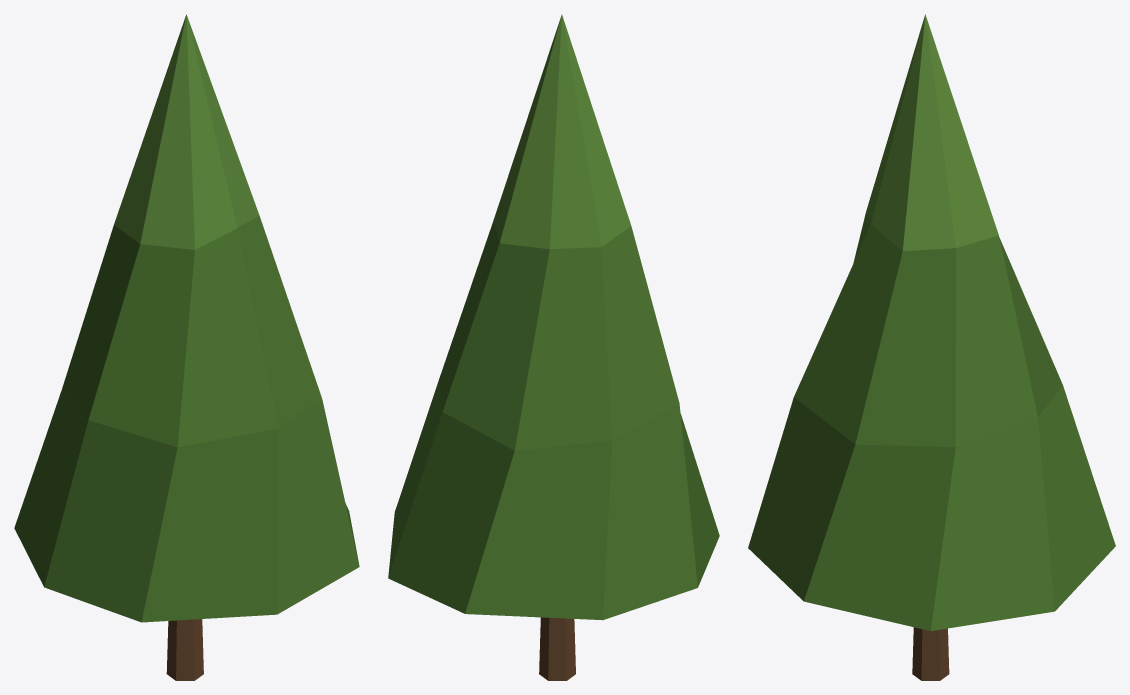
File: tree_cone_b.glb
The picture shows the model from 3 angles, left to right: view 1: azimuth 30°, elevation 25°; view 2: azimuth 150°, elevation 25°; view 3: azimuth 270°, elevation 25°; orthographic projection.
Parts seen in each view (by area): view 1: TreeConeB; view 2: TreeConeB; view 3: TreeConeB.
Part boxes in pixels (left/top/right/bottom): TreeConeB: left=14, top=14, right=359, bottom=680; TreeConeB: left=388, top=14, right=719, bottom=680; TreeConeB: left=748, top=14, right=1115, bottom=680.
Size of what is drawn, in the model's own units: 2.84 by 5.9 by 2.98.
